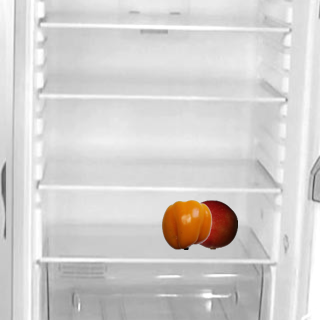Apple Braeburn: (187, 199, 237, 249)
Pepper Yellow: (161, 199, 211, 249)
